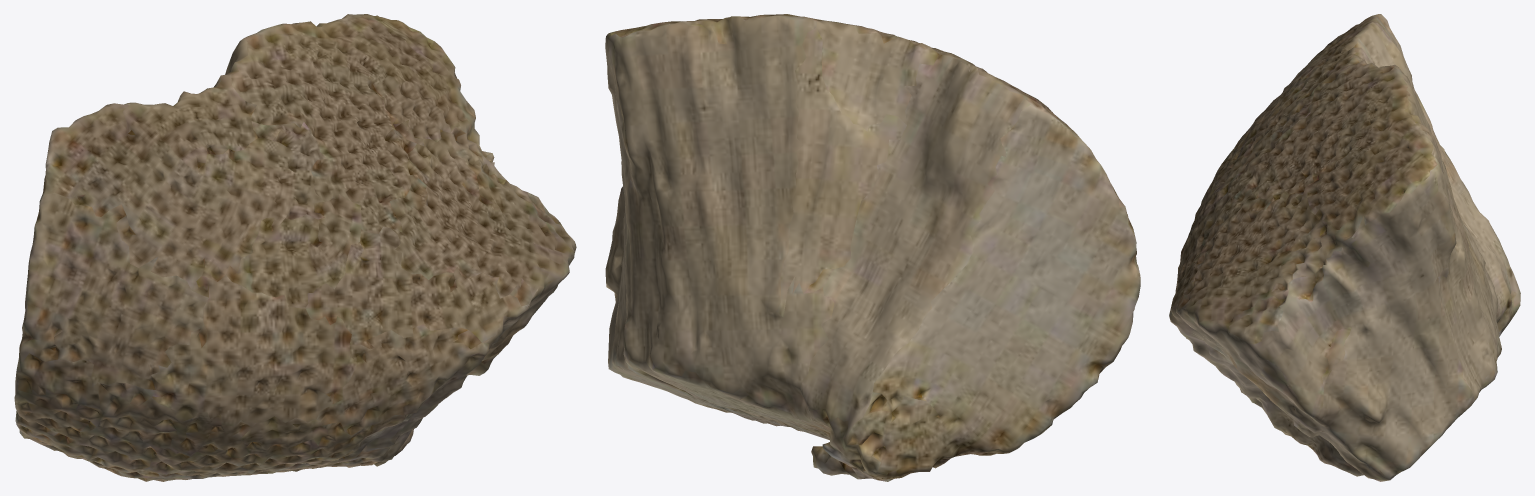
Rendered from plesiastraea-armata-mobile.glb.
The picture shows the model from 3 angles, left to right: view 1: azimuth 30°, elevation 25°; view 2: azimuth 150°, elevation 25°; view 3: azimuth 270°, elevation 25°; orthographic projection. The views are drawn at different scales.
Size of the model in its own units: 0.0841 by 0.0652 by 0.0577.
Materials: 1 (1 with a texture image).
